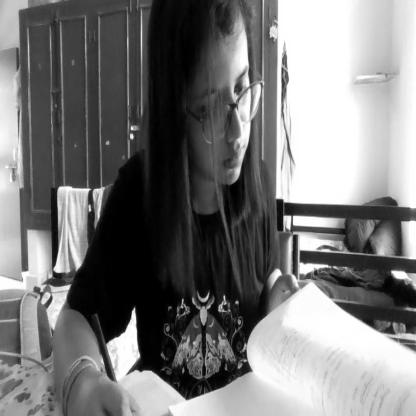Distracted: (152, 0, 255, 198)
